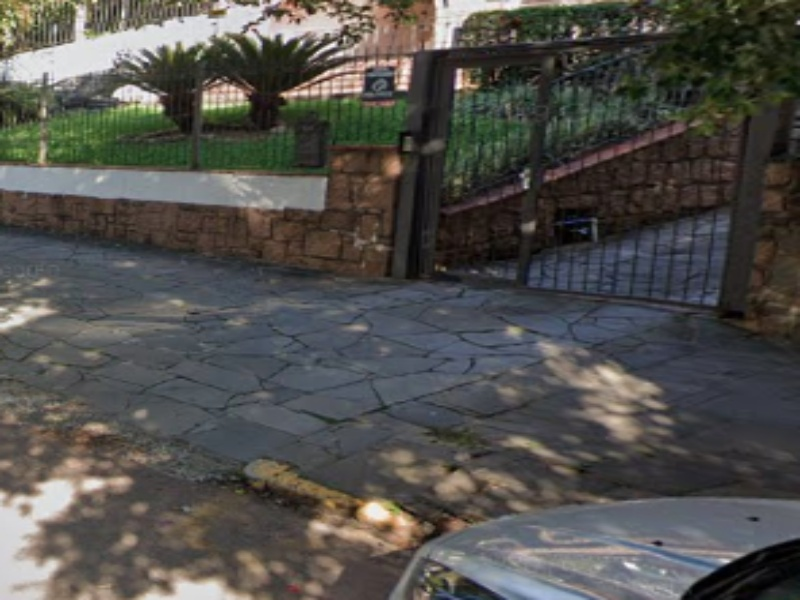g64: (6, 351, 248, 501)
